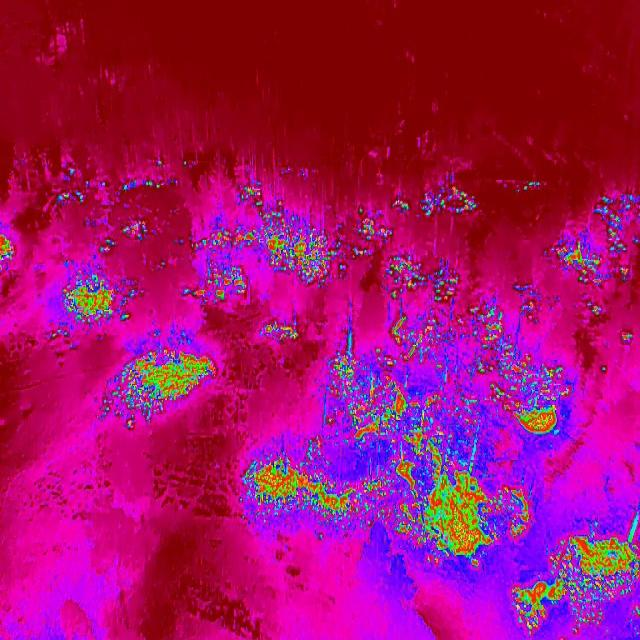fire: (182, 182, 392, 342), (388, 394, 536, 568), (507, 522, 639, 640), (468, 286, 570, 438), (554, 190, 638, 345), (238, 448, 386, 526), (55, 166, 179, 258), (323, 342, 427, 447), (98, 344, 221, 428), (384, 254, 465, 364), (50, 268, 130, 344), (392, 177, 490, 227), (0, 222, 22, 279), (514, 178, 549, 194)
